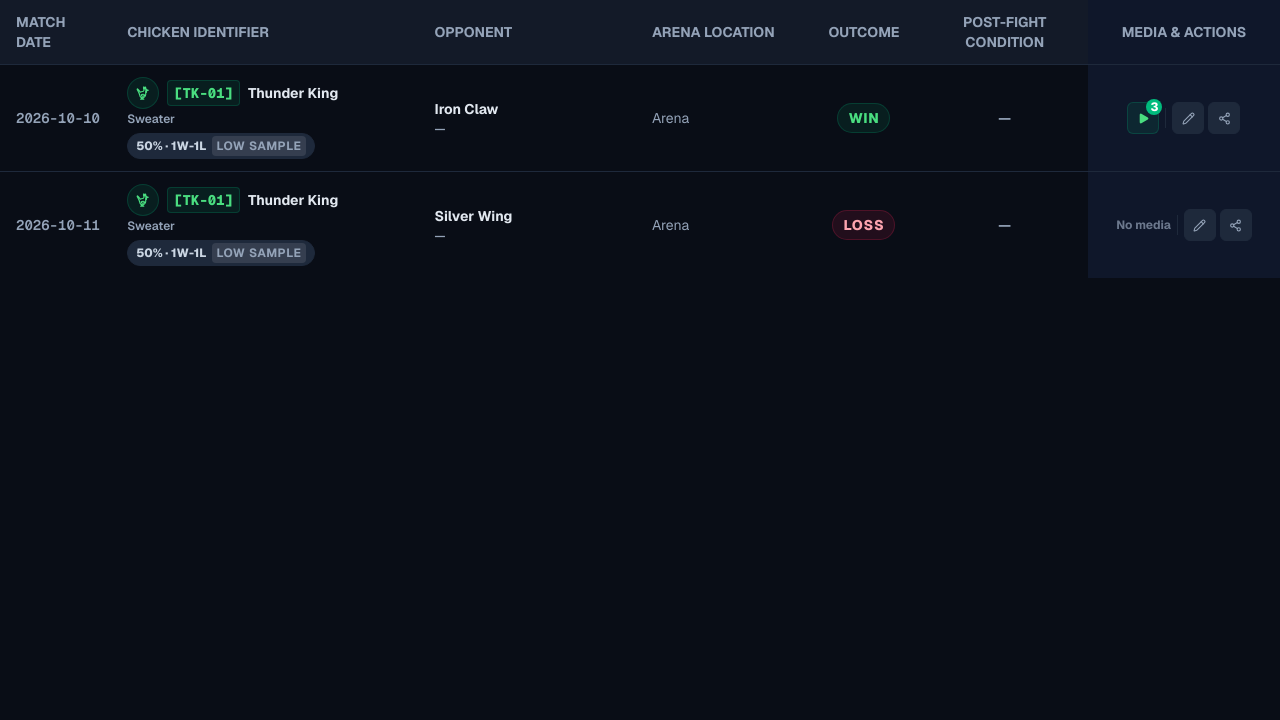
it: Match Actions Regression & Accessibility Suite › 1. Match Logs Table (/dashboard) › renders exactly one Edit action per row and opens the inline editor
Click the button named "Edit match record" in the row of "2026-10-10".
click(1188, 118)  # box [1172,102,1204,134]
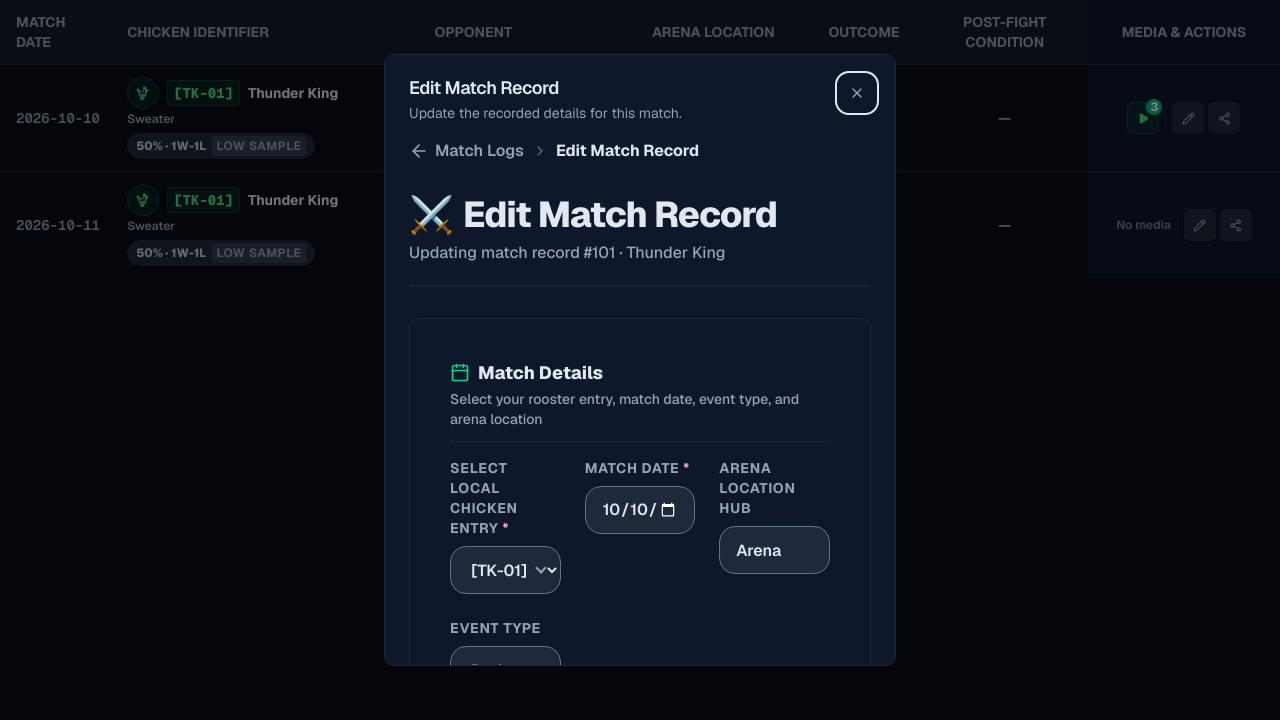
Check: the dialog "Edit Match Record" is shown, box [384,54,896,666]
